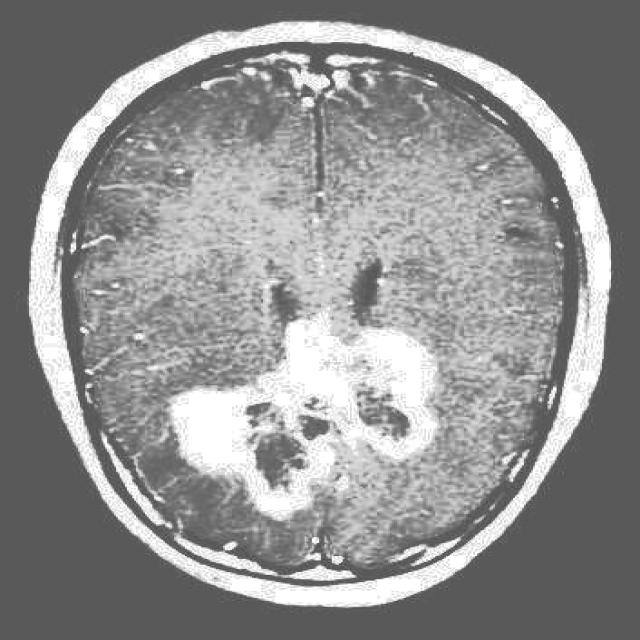tumor: (174, 306, 437, 518)
